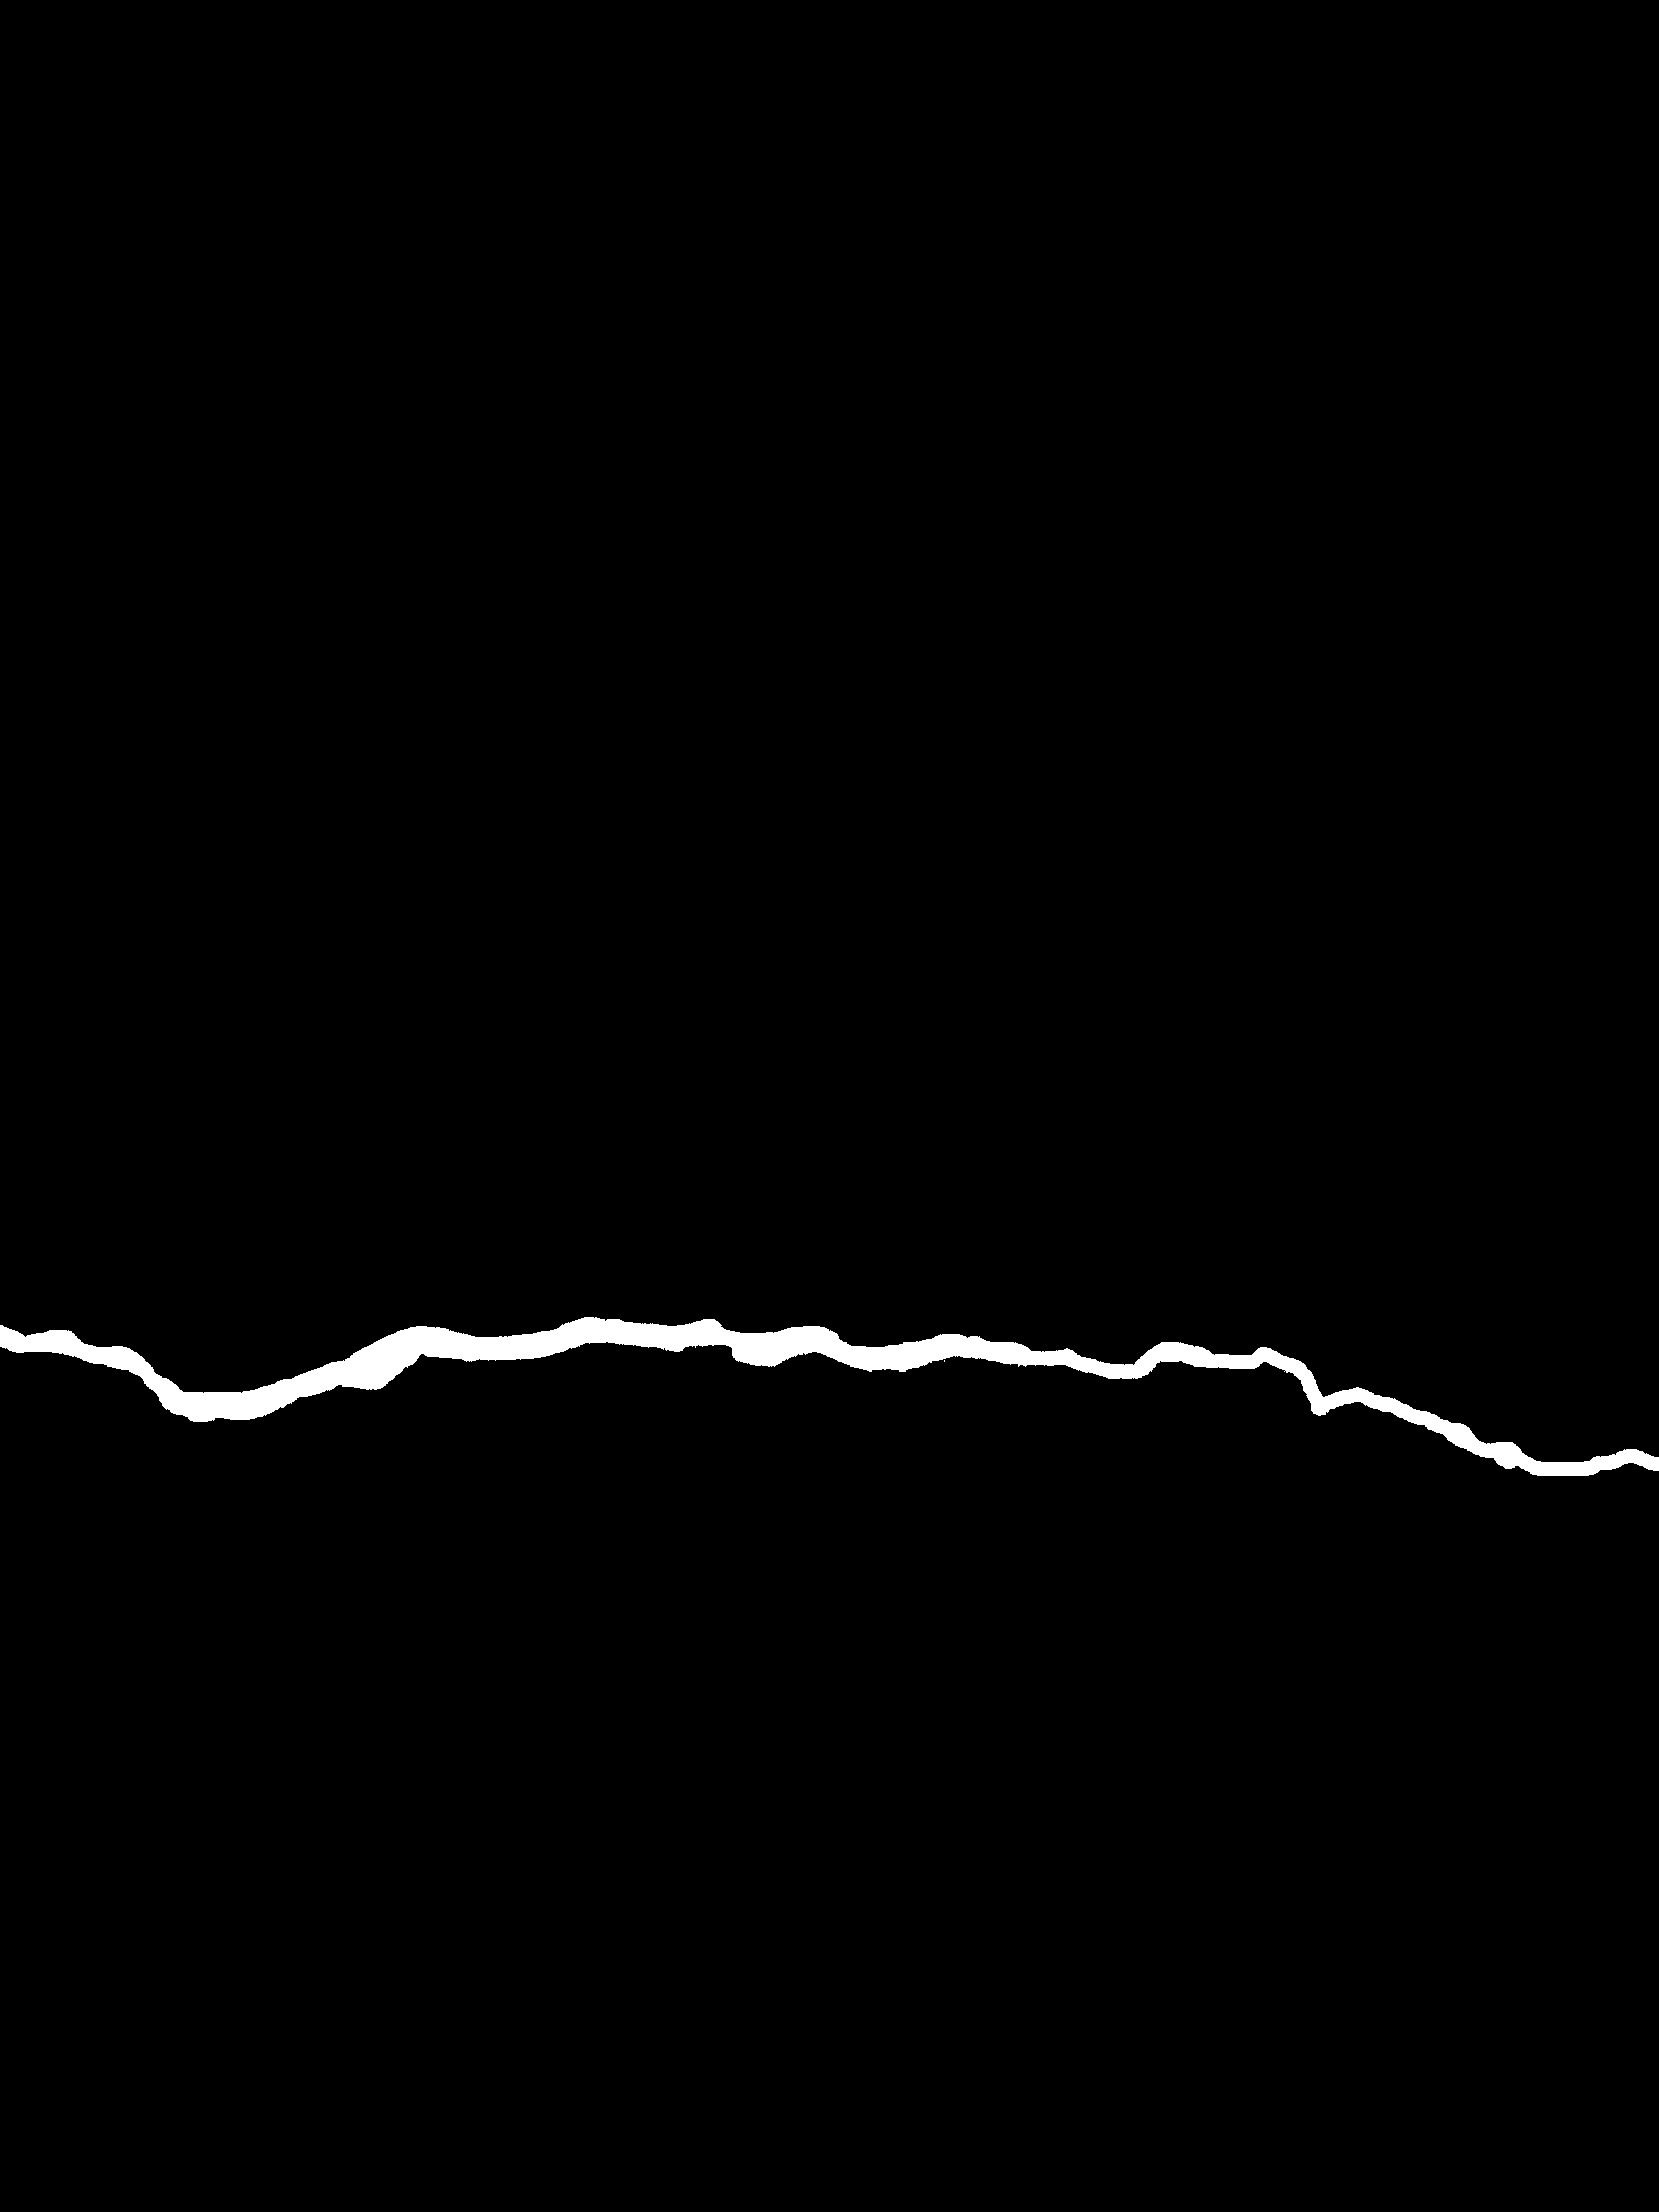Crack: (0, 1282, 1659, 1491)
